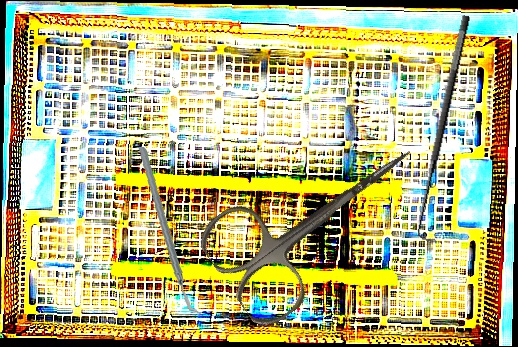Chopper: (118, 146, 221, 316)
Hook Surgical: (406, 14, 489, 246)
Iris Scissors: (191, 104, 447, 334)
